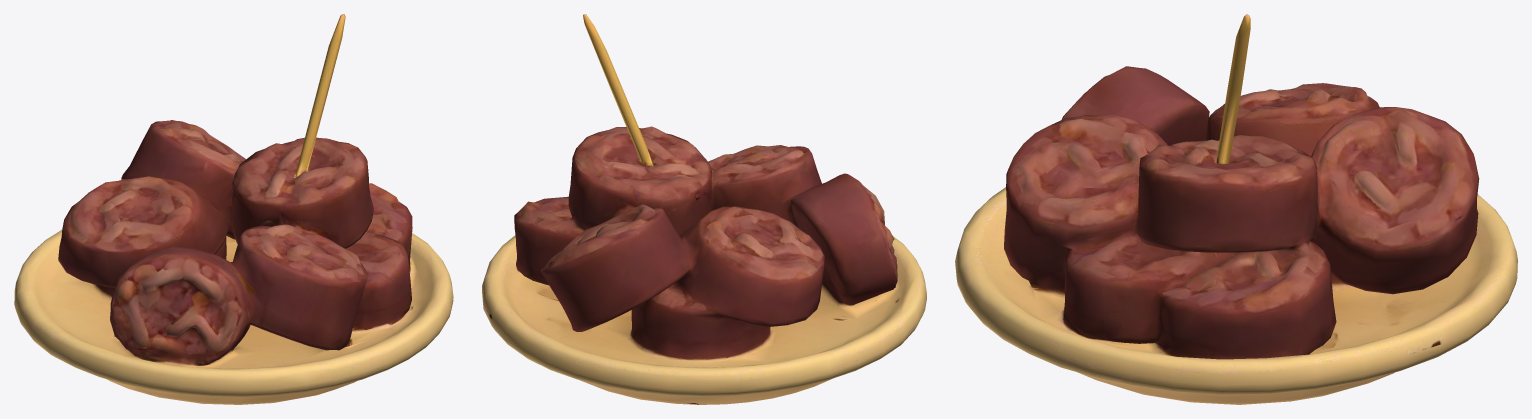
The picture shows the model from 3 angles, left to right: view 1: azimuth 30°, elevation 25°; view 2: azimuth 150°, elevation 25°; view 3: azimuth 270°, elevation 25°; orthographic projection. The views are drawn at different scales.
Parts seen in each view (by area): view 1: sundae; view 2: sundae; view 3: sundae.
Part boxes in pixels (<box>): sundae: <box>14,14,453,404</box>; sundae: <box>482,14,926,404</box>; sundae: <box>955,14,1517,404</box>.
Size of the model in its own units: 0.18 by 0.1343 by 0.1798.
Materials: 1 (1 with a texture image).
